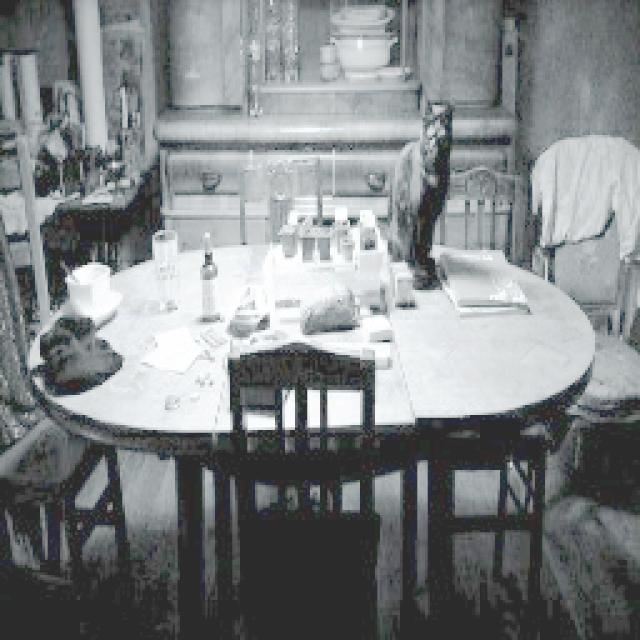cat: (376, 99, 468, 296)
